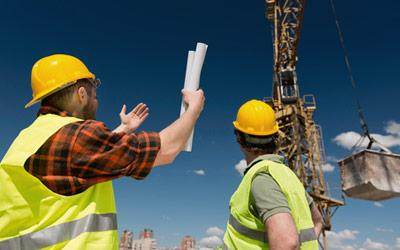helmet: (27, 57, 98, 108), (233, 101, 280, 137)
